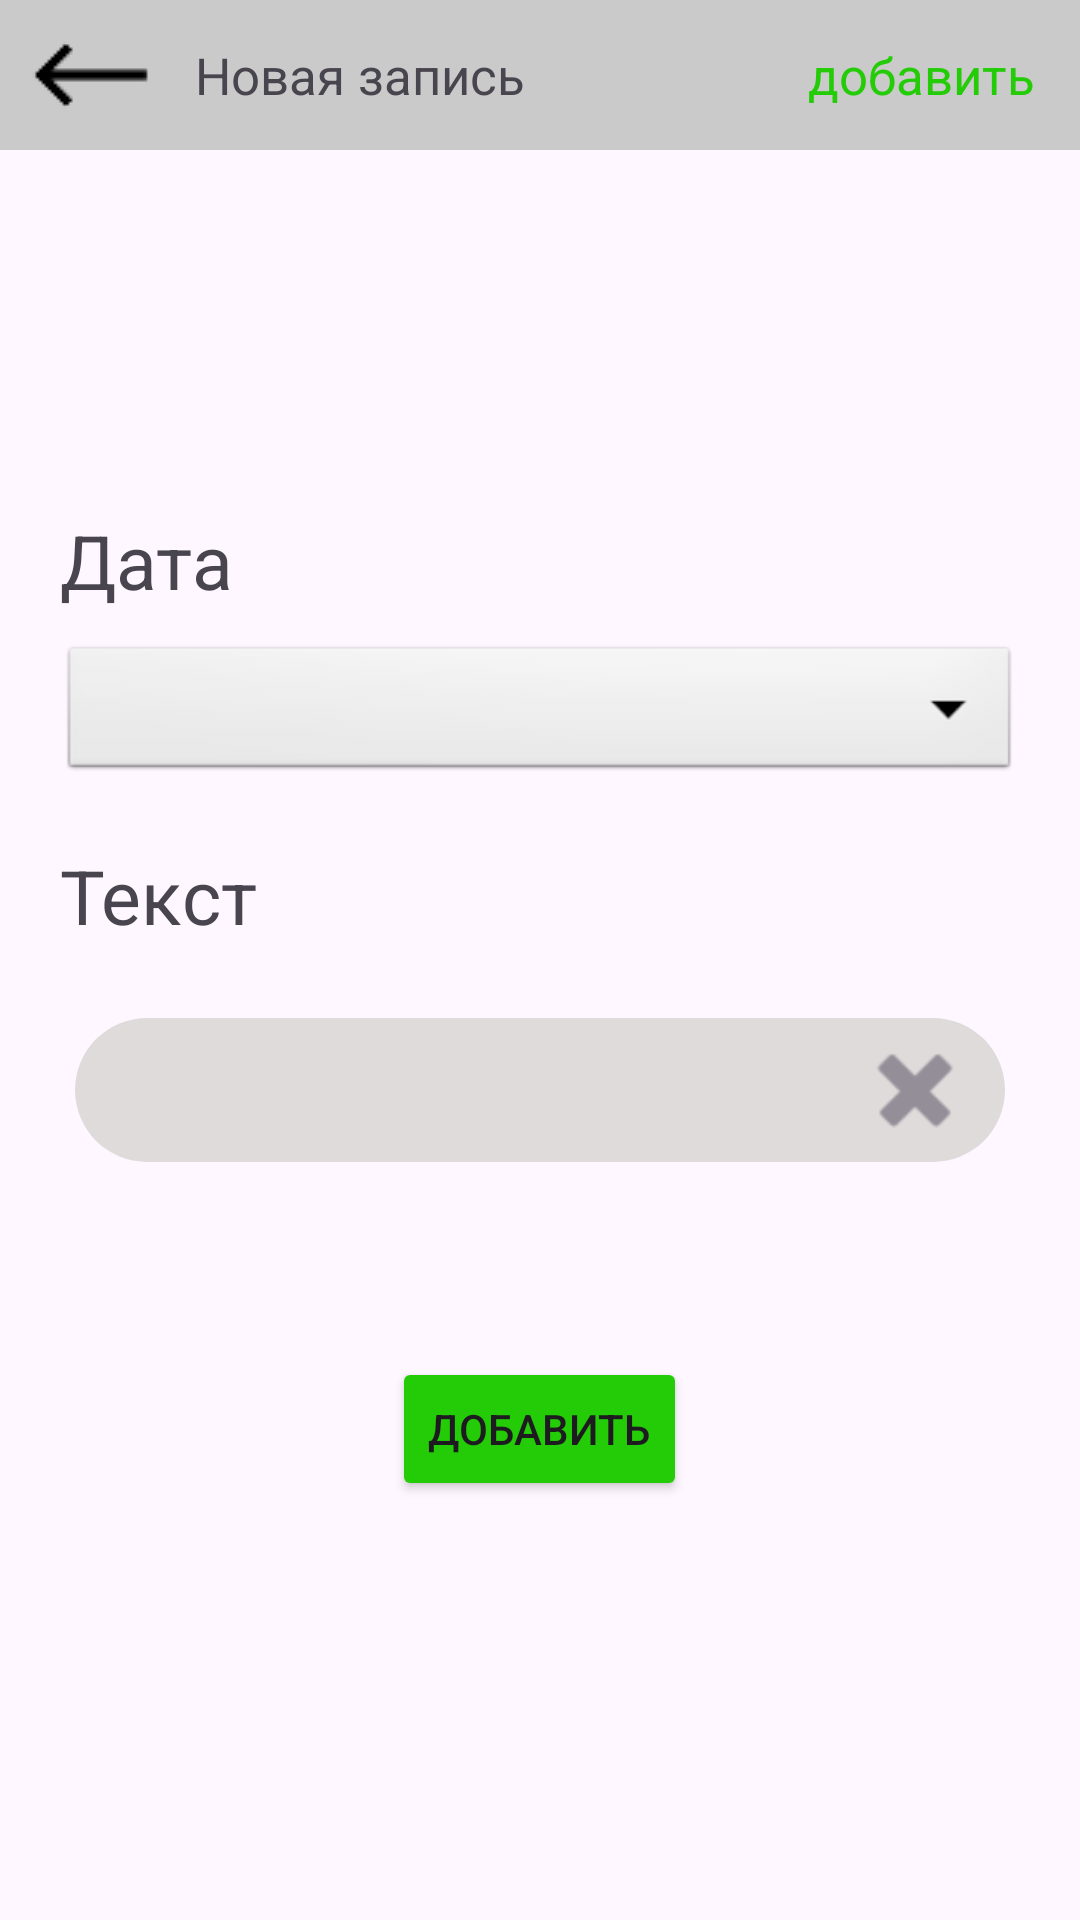

Icons on this 1080 x 1920 Android screen, each with the point to tap as point (x, y):
delete: point (915, 1090)
